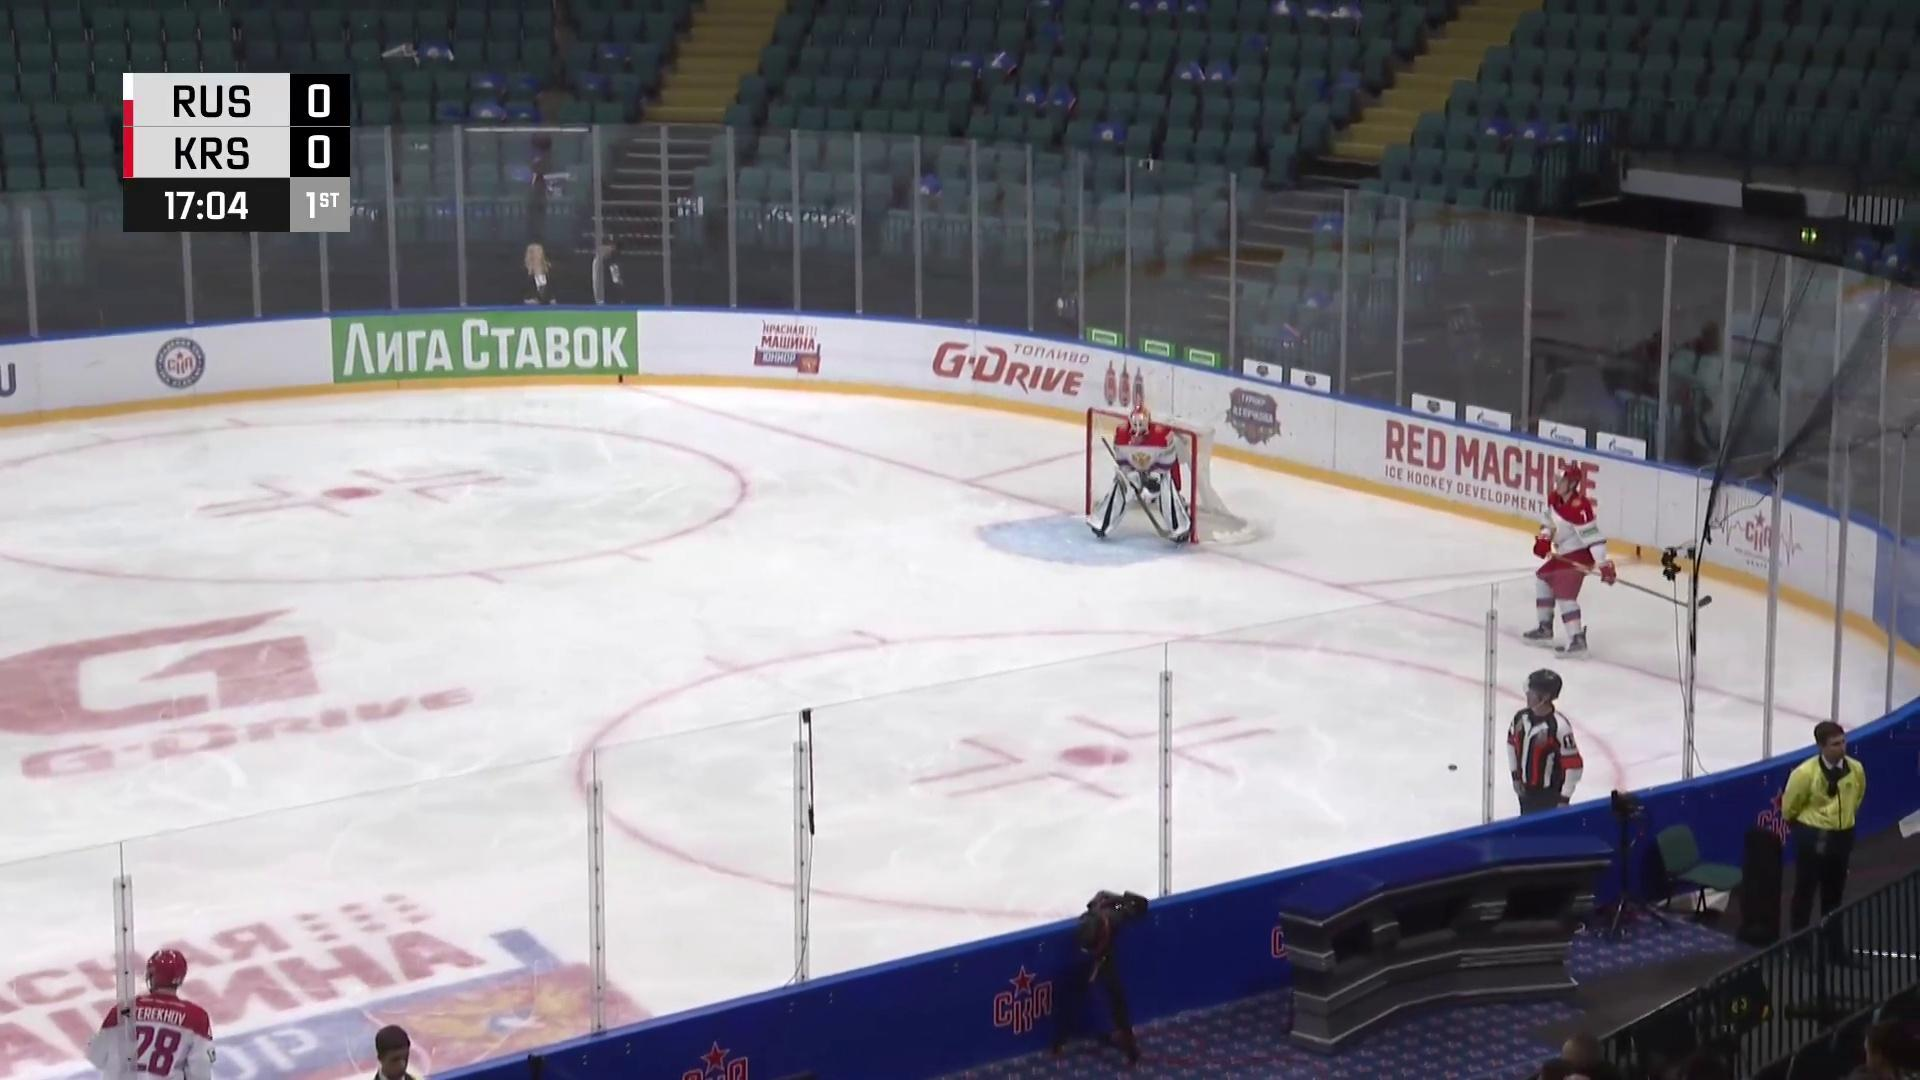ball: (1445, 761, 1460, 773)
